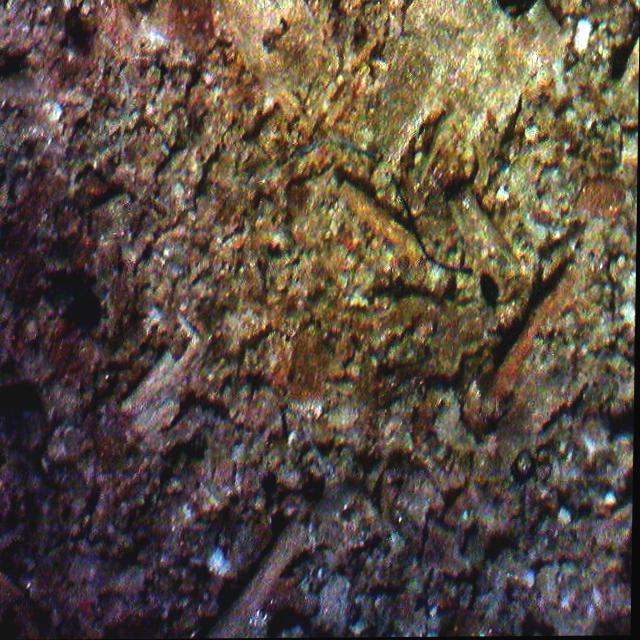microplastic: (392, 174, 474, 277), (250, 138, 376, 189)
